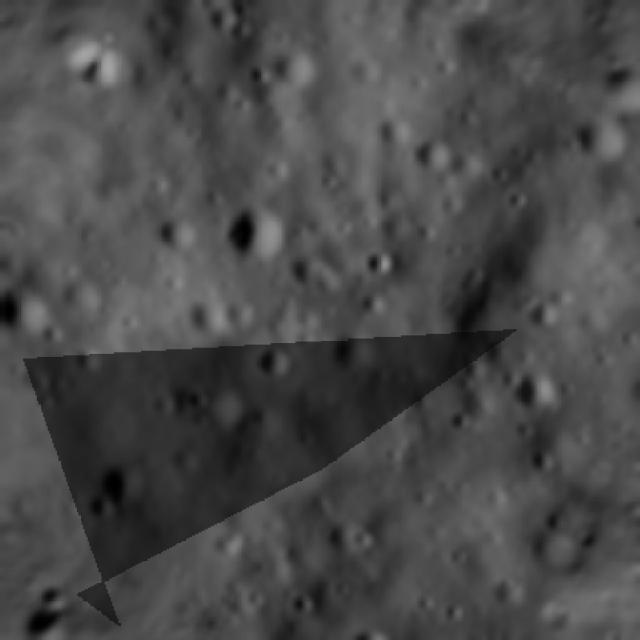crater: (212, 188, 300, 274), (558, 97, 636, 171), (313, 321, 389, 394), (501, 358, 572, 429), (84, 456, 156, 521), (130, 372, 201, 434), (0, 271, 54, 347), (244, 328, 304, 387), (407, 126, 464, 186), (80, 46, 132, 102), (509, 291, 563, 343), (325, 611, 410, 640), (356, 240, 398, 282), (520, 445, 560, 484)
